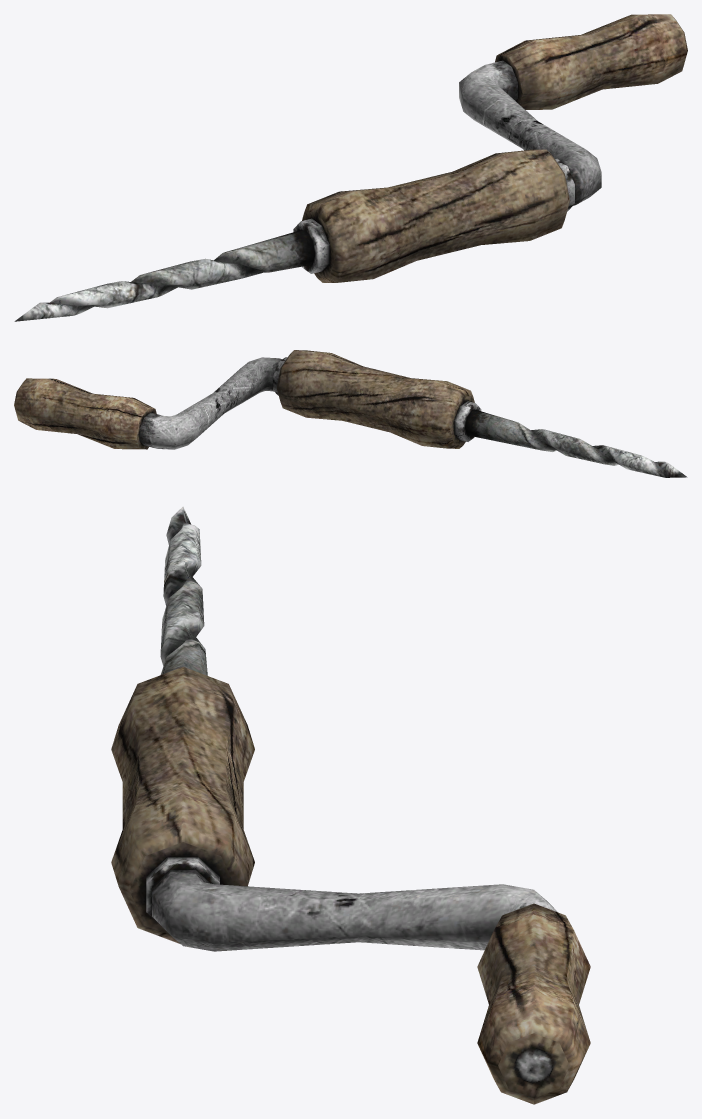
The model's file is hand_drill.dae.
3 renders of one model, top to bottom at view 1: azimuth 30°, elevation 25°; view 2: azimuth 150°, elevation 25°; view 3: azimuth 270°, elevation 25°, orthographic. The views are drawn at different scales.
Visible parts, largest first — view 1: hand_drill; view 2: hand_drill; view 3: hand_drill.
Part boxes in pixels (x1,y1,x2,y2): hand_drill: (14,14,687,321); hand_drill: (14,350,687,477); hand_drill: (111,506,590,1104).
Size of the model in its own units: 0.5993 by 0.0647 by 0.2156.
